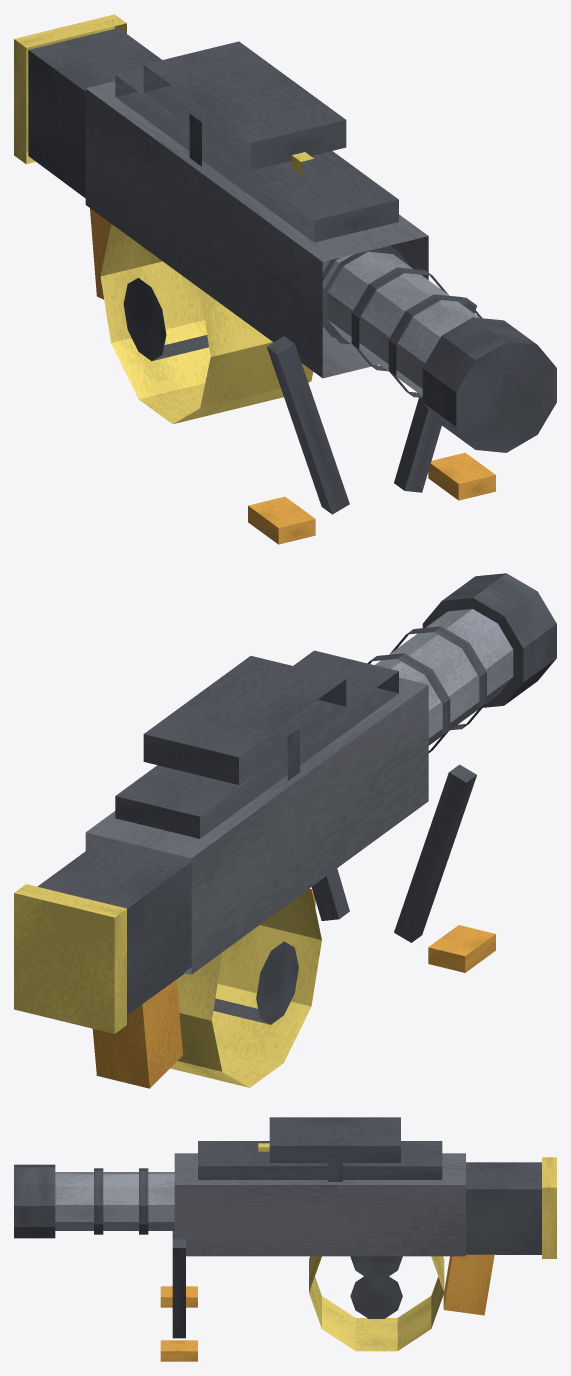
Rendered from weapon_hmg.glb.
3 renders of one model, top to bottom at view 1: azimuth 30°, elevation 25°; view 2: azimuth 150°, elevation 25°; view 3: azimuth 270°, elevation 25°, orthographic. The views are drawn at different scales.
Visible parts, largest first — view 1: weapon_hmg; view 2: weapon_hmg; view 3: weapon_hmg.
Part boxes in pixels (<box>): weapon_hmg: <box>14,14,556,544</box>; weapon_hmg: <box>14,573,556,1088</box>; weapon_hmg: <box>14,1117,556,1361</box>.
Size of the model in its own units: 0.82 by 1.19 by 2.89.
Materials: 1 (1 with a texture image).
